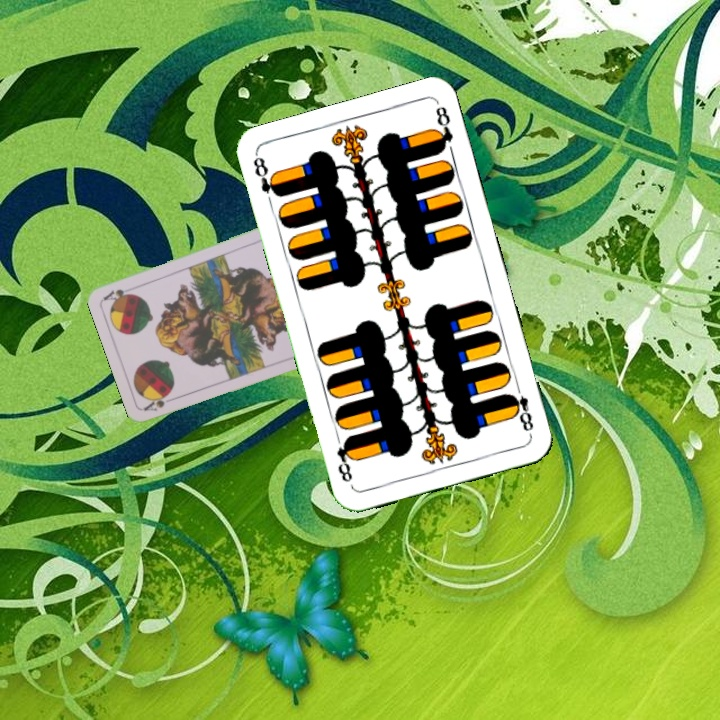E8: (249, 151, 284, 200), (505, 379, 536, 434)
SA: (140, 390, 180, 414)
